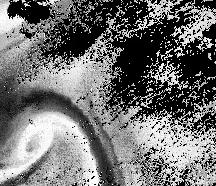CE: (13, 108, 67, 163)
